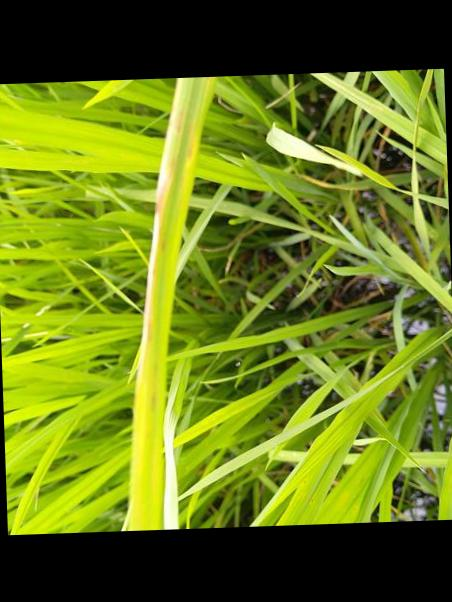Leaf Blight: (127, 75, 219, 531)
